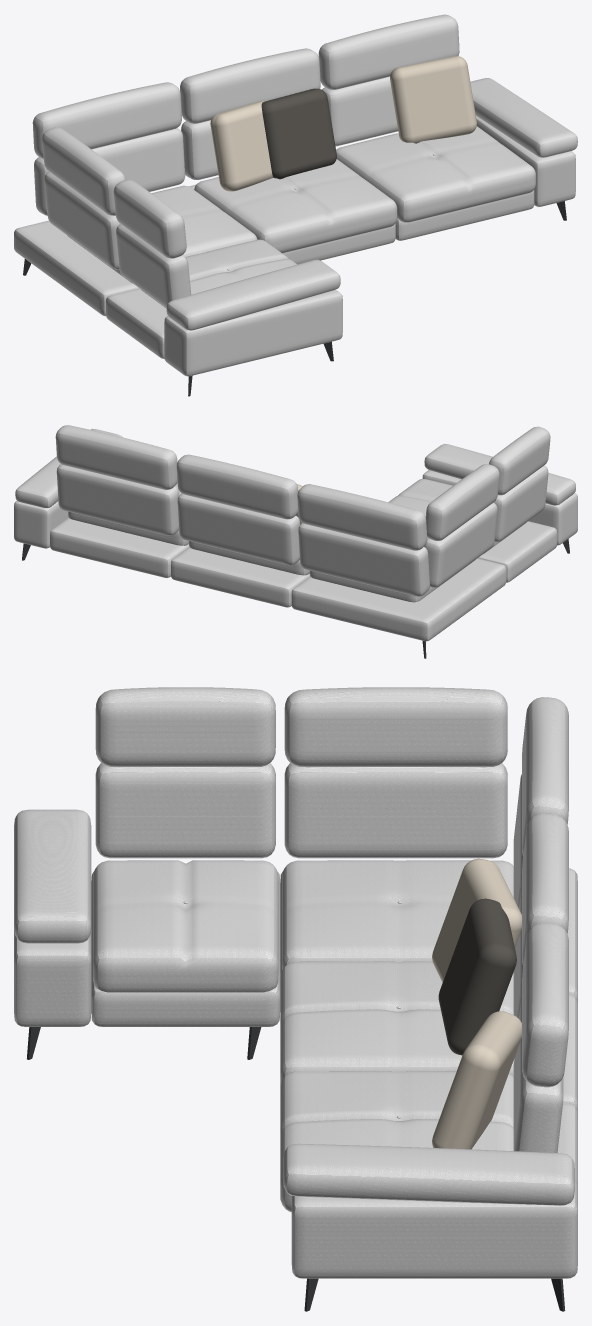
Rendered from sofa-roma-corner.glb.
The picture shows the model from 3 angles, top to bottom: view 1: azimuth 30°, elevation 25°; view 2: azimuth 150°, elevation 25°; view 3: azimuth 270°, elevation 25°; orthographic projection. The views are drawn at different scales.
Parts seen in each view (by area): view 1: object 1, decor (×2); view 2: object 1; view 3: object 1, decor (×2), object 4.
Boxes of the visible parts, <box> form: object 1: <box>14,14,577,376</box>; decor (×2): <box>210,56,476,191</box>; object 1: <box>14,425,577,641</box>; object 1: <box>14,687,577,1278</box>; decor (×2): <box>432,858,521,1149</box>; object 4: <box>27,1027,565,1311</box>.
Bounding box in the file's own units: 3.12 × 1.01 × 1.97.
Materials: 4 (1 with a texture image).
